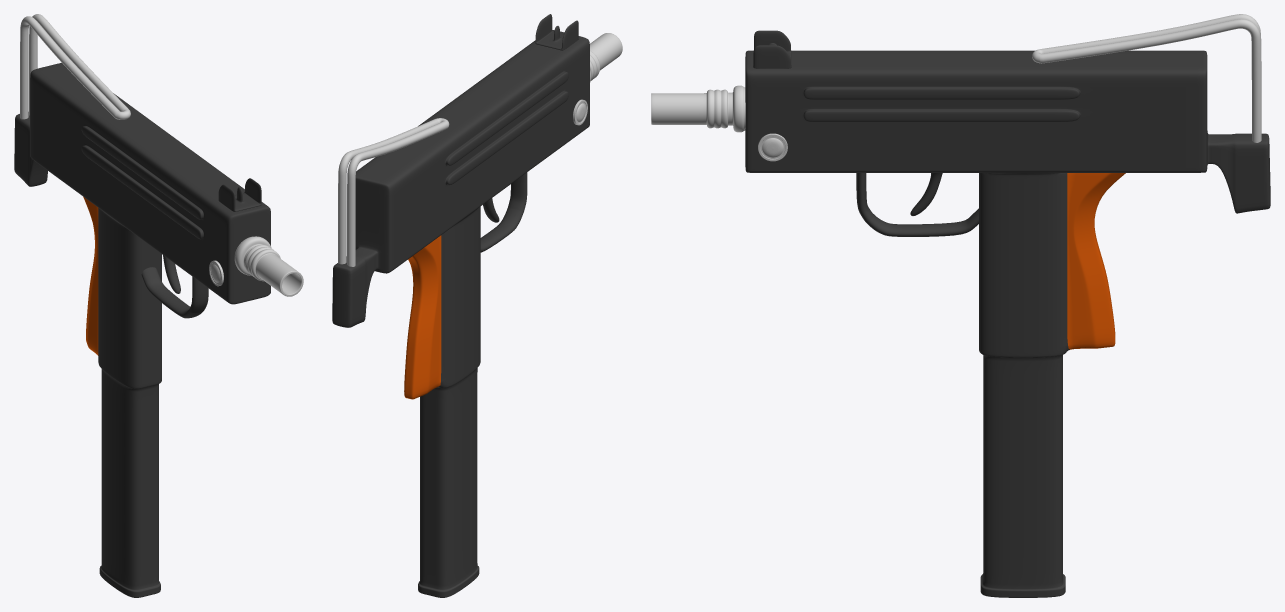
Rendered from MashineGun-KWC-M11.fbx.
3 views of the same model, side by side, from view 1: azimuth 30°, elevation 25°; view 2: azimuth 150°, elevation 25°; view 3: azimuth 270°, elevation 25° (orthographic). The views are drawn at different scales.
Visible parts, largest first — view 1: MashineGun; view 2: MashineGun; view 3: MashineGun.
Boxes of the visible parts, x1,y1,x2,y2 form: MashineGun: [14, 14, 303, 597]; MashineGun: [332, 14, 622, 597]; MashineGun: [651, 14, 1270, 597].
Bounding box in the file's own units: 101 × 958 × 941.
